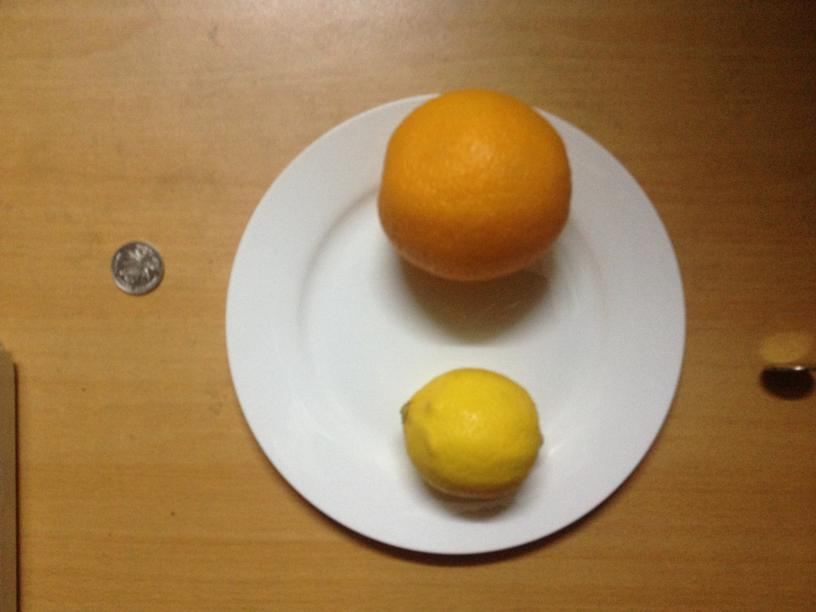coin: (110, 241, 162, 296)
lemon: (396, 367, 543, 501)
orange: (377, 92, 573, 283)
